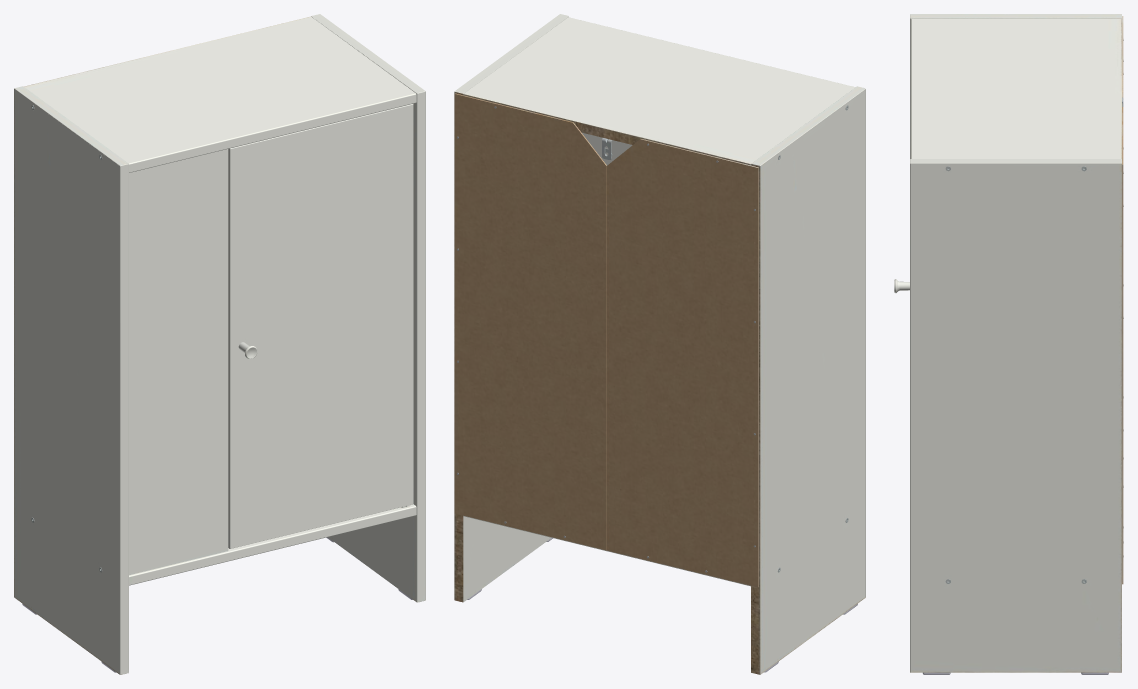
Rendered from baggebo_szafka_z_drzwiami_60481204.glb.
3 renders of one model, left to right at view 1: azimuth 30°, elevation 25°; view 2: azimuth 150°, elevation 25°; view 3: azimuth 270°, elevation 25°, orthographic.
Parts seen in each view (by area): view 1: baggebo_szafka_z_drzwiami_60481204; view 2: baggebo_szafka_z_drzwiami_60481204; view 3: baggebo_szafka_z_drzwiami_60481204.
Boxes of the visible parts, bbox=[...] form: baggebo_szafka_z_drzwiami_60481204: bbox=[14, 14, 425, 674]; baggebo_szafka_z_drzwiami_60481204: bbox=[454, 14, 865, 674]; baggebo_szafka_z_drzwiami_60481204: bbox=[894, 14, 1123, 674].
Size of the model in its own units: 0.501 by 0.8 by 0.3246.
Materials: 1 (1 with a texture image).
